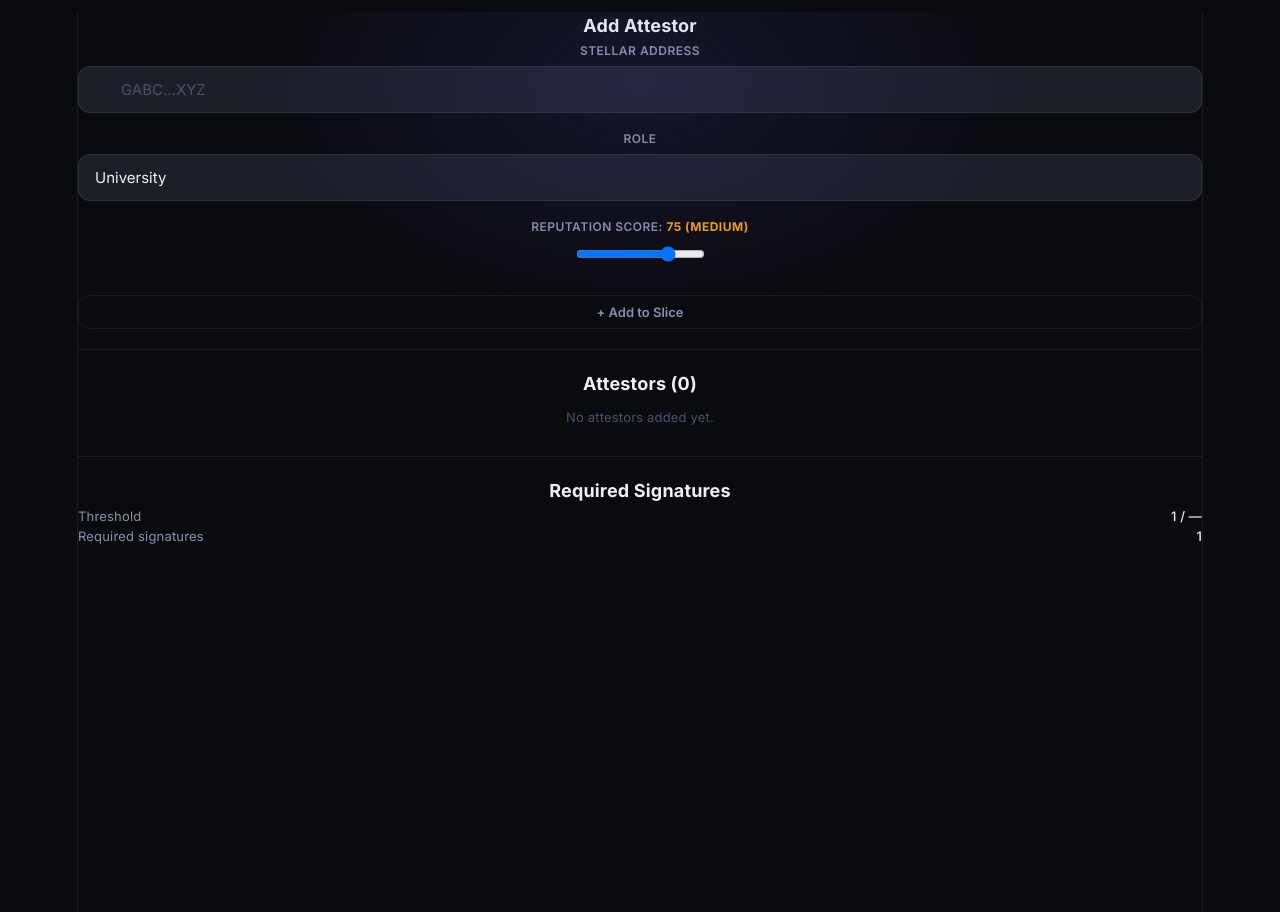
Test: SliceMemberManager (#465) › shows validation error for invalid Stellar address
Step 1. Type "invalid" into the field labelled "Stellar Address" → [640, 90], box top-left (78, 66), bottom-right (1202, 113)
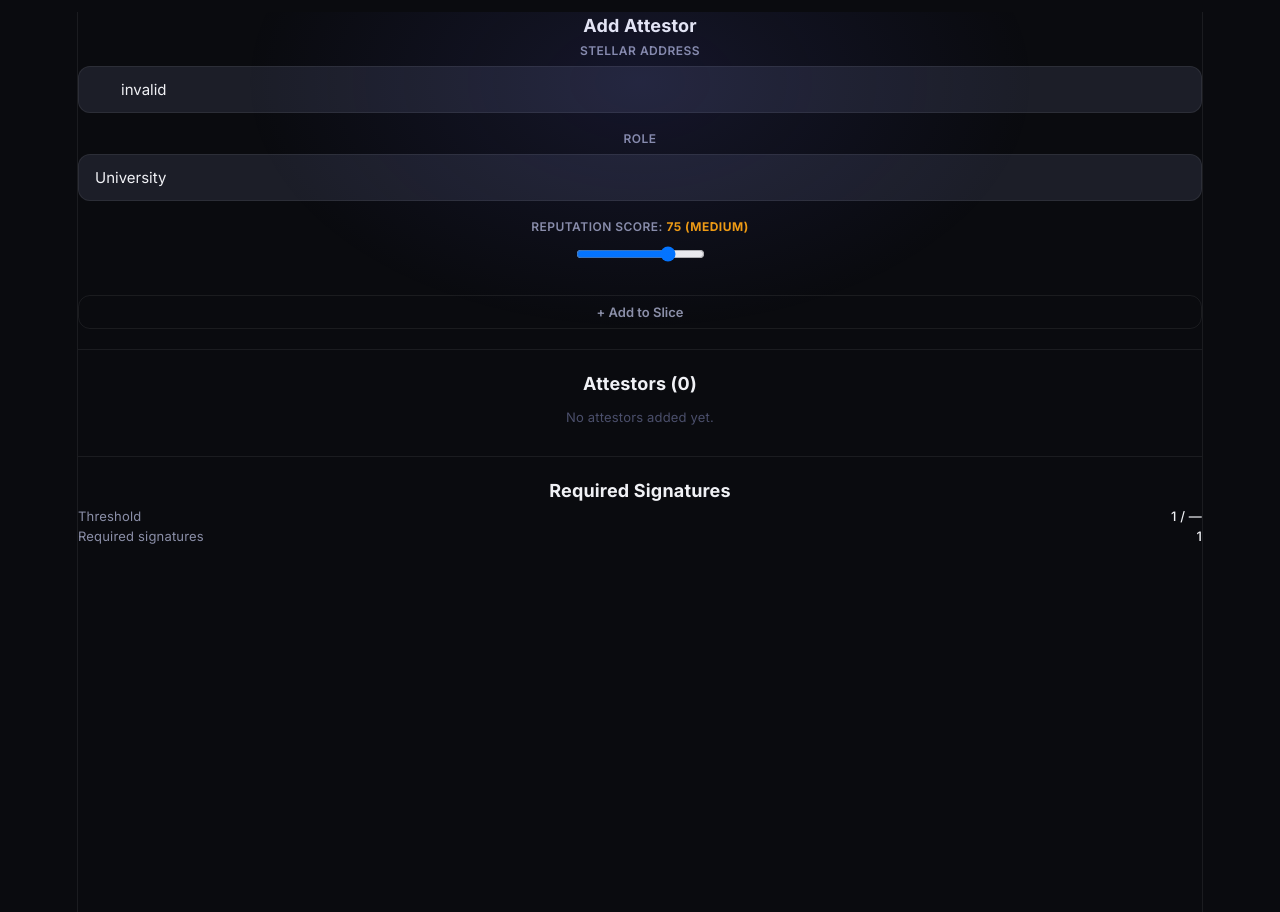
Step 2. Submit the form named "Add attestor form", box top-left (78, 41), bottom-right (1202, 329)
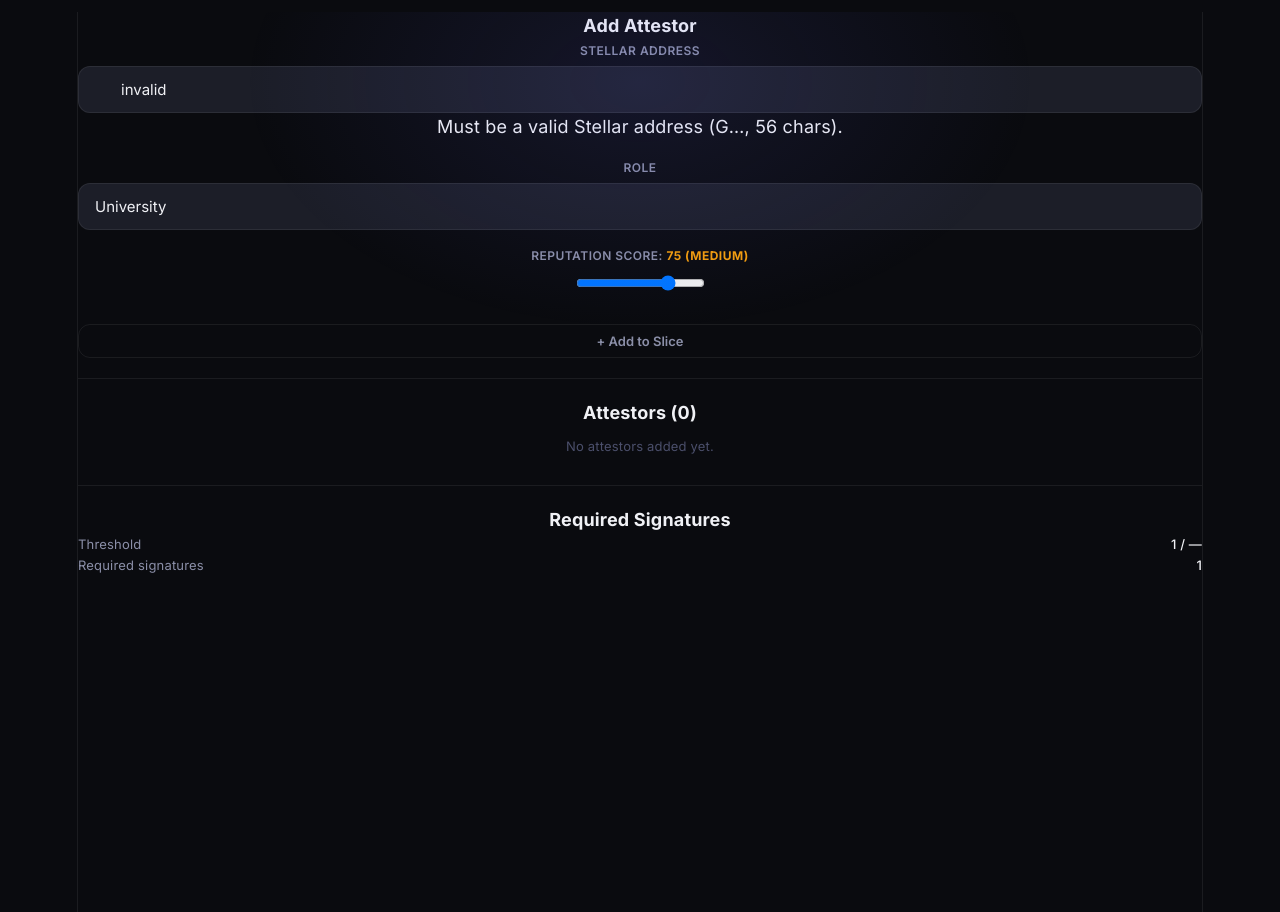
Expected: the text "Must be a valid Stellar address (G…, 56 chars)." is shown, top-left (437, 116), bottom-right (843, 137)
